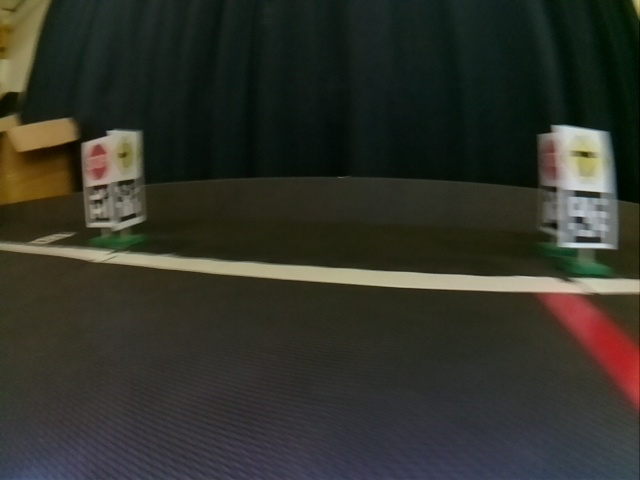Intersection sign: (564, 133, 606, 182), (117, 139, 137, 172)
QR code: (561, 193, 615, 244), (115, 180, 143, 224), (84, 185, 110, 223), (541, 186, 560, 231)
Stop sign: (83, 145, 109, 182), (537, 139, 558, 183)
